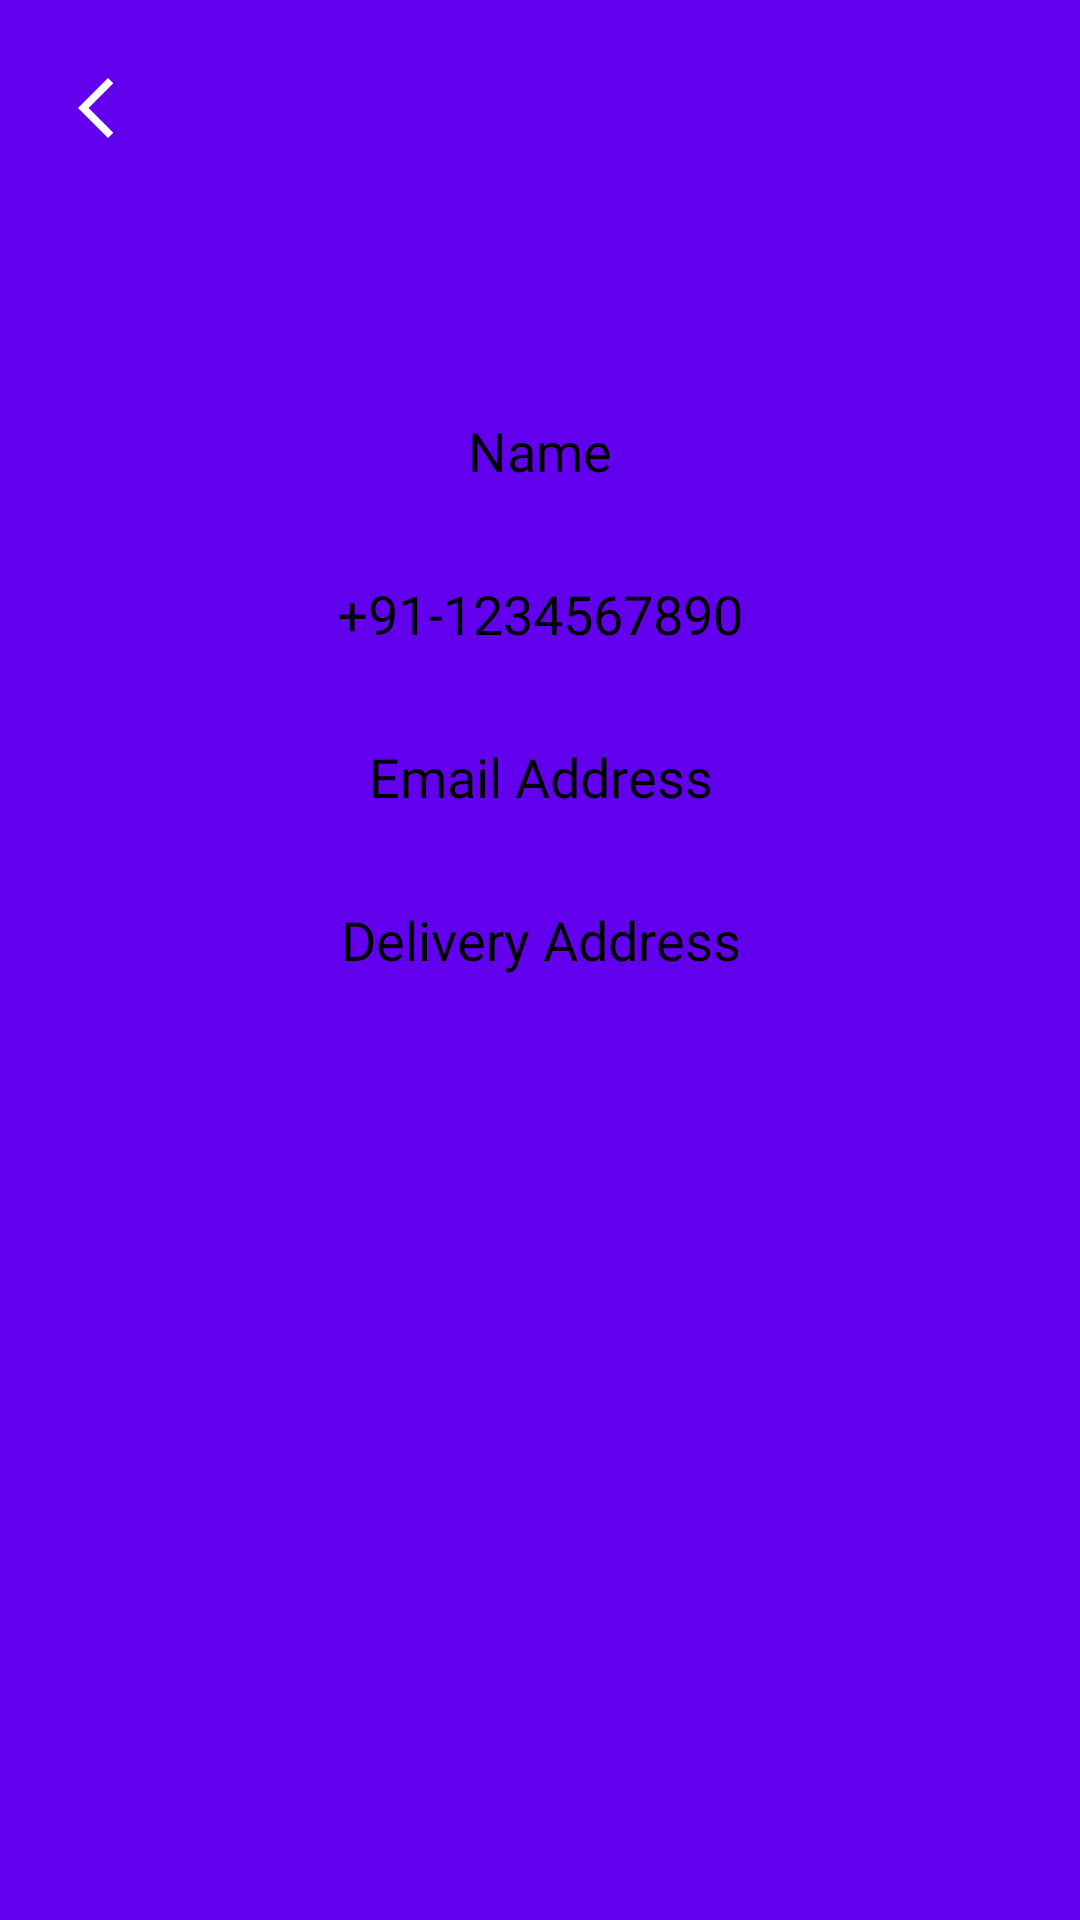

Icons on this 1080×1920 Android screen, each with its box as (x1, y1, x2, y2):
back: (78, 78, 113, 138)
